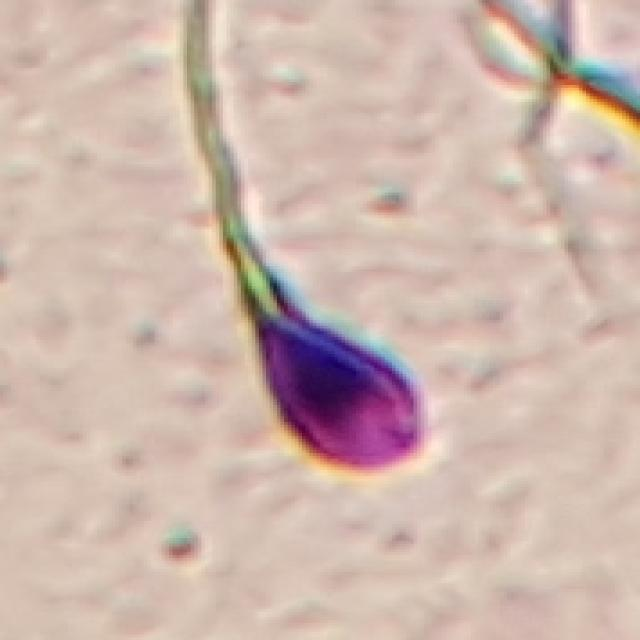normal sperm: (222, 216, 432, 477)
